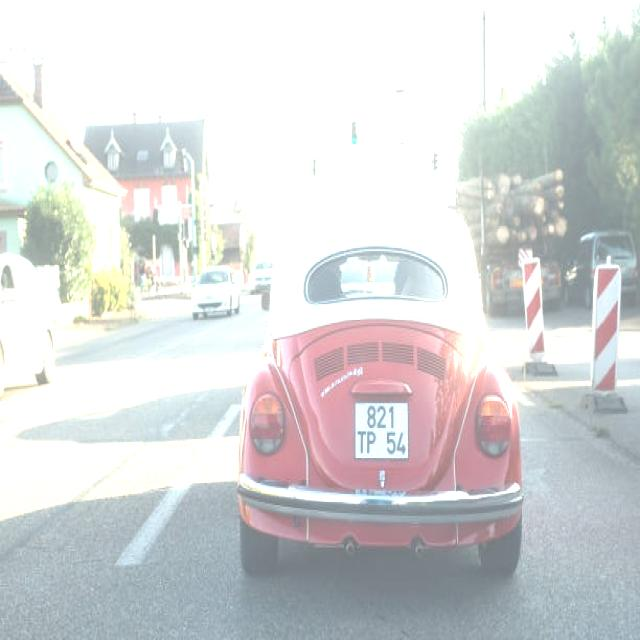car: (256, 200, 524, 567), (1, 268, 54, 388), (190, 266, 242, 318)
